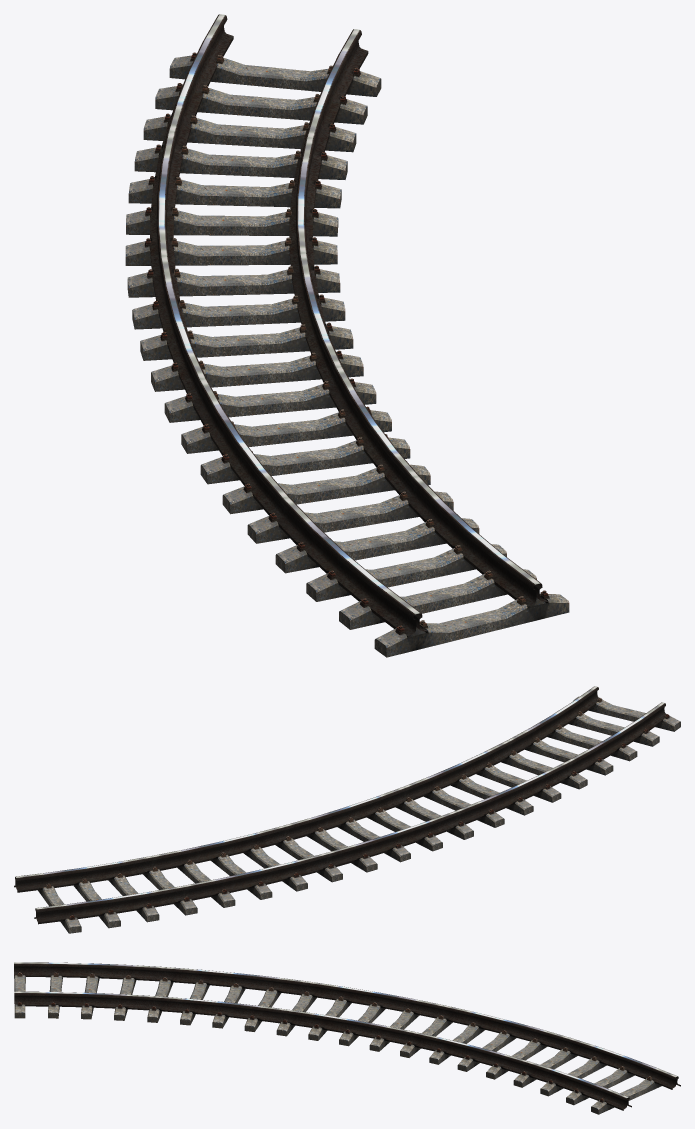
File: Beton_rail_-45.FBX
3 views of the same model, one above another, from view 1: azimuth 30°, elevation 25°; view 2: azimuth 150°, elevation 25°; view 3: azimuth 270°, elevation 25° (orthographic). The views are drawn at different scales.
Visible parts, largest first — view 1: Beton_rail_-45_LOD0; view 2: Beton_rail_-45_LOD0; view 3: Beton_rail_-45_LOD0.
Boxes of the visible parts, bbox=[...] form: Beton_rail_-45_LOD0: bbox=[125, 14, 569, 657]; Beton_rail_-45_LOD0: bbox=[14, 686, 680, 933]; Beton_rail_-45_LOD0: bbox=[14, 962, 680, 1114].
Size of what is drawn, in the model's own units: 8.13 by 15.89 by 0.4774.
